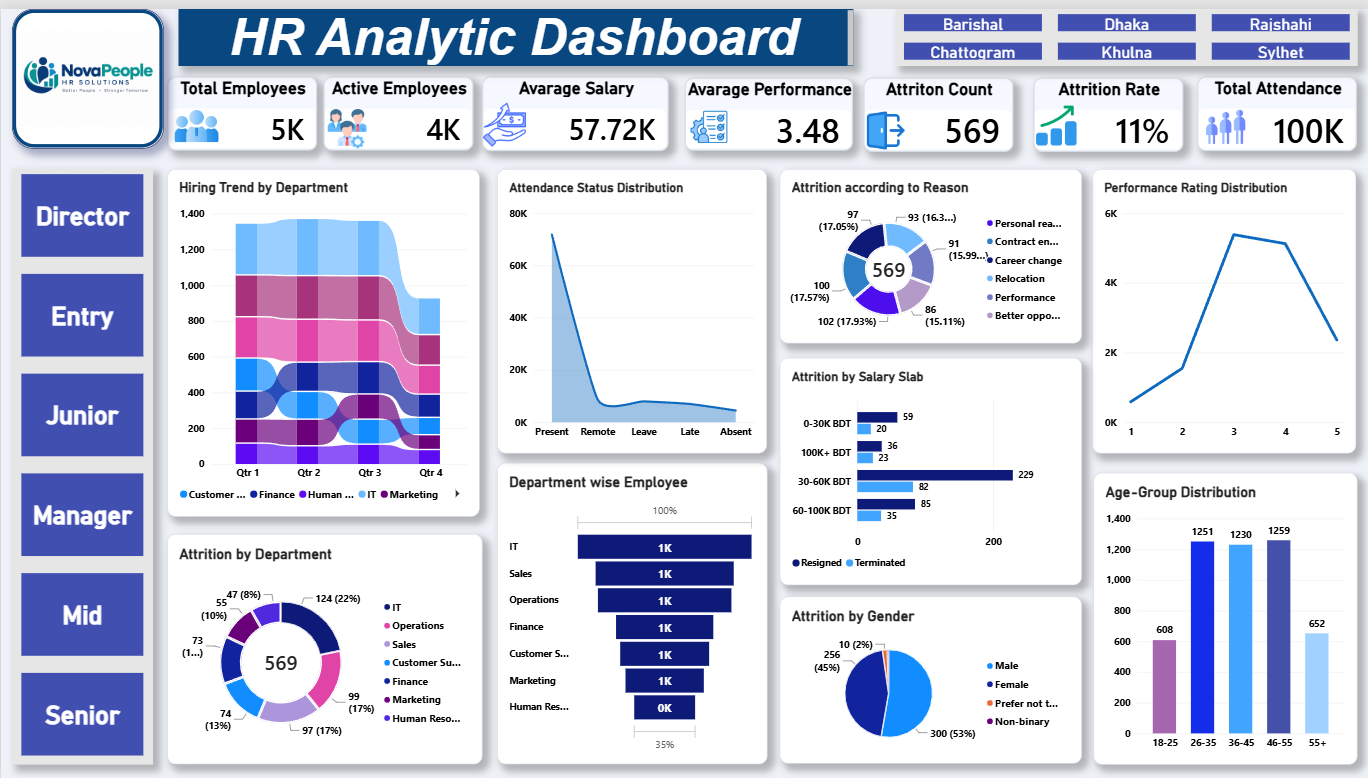

The dashboard page shown, as its layout file describes it:
{"tool":"powerbi","page":{"name":"Page 1","canvas":[1920,1080],"ordinal":0},"visuals":[{"type":"cardVisual","title":"Total Employees","fields":{"Data":["Employees.Total Employees"]},"box":[232.6,94.7,210,104],"z":0},{"type":"cardVisual","title":"Active Employees","fields":{"Data":["Employees.Active Employees"]},"box":[452.8,94.7,210,104],"z":1000},{"type":"cardVisual","title":"Avarage Salary","fields":{"Data":["Avg(Employees.MonthlySalary_BDT)"]},"box":[675.1,94.7,261.4,105],"z":2000},{"type":"cardVisual","title":"Avarage Performance","fields":{"Data":["Employees.Average Performance"]},"box":[959.7,97.1,236.2,102.2],"z":3000},{"type":"cardVisual","title":"Attriton Count","fields":{"Data":["Employees.Attrition Count"]},"box":[1210.3,96.7,210,104],"z":4000},{"type":"cardVisual","title":"Attrition Rate","fields":{"Data":["Employees.Attrition Rate"]},"box":[1449.1,96.7,210,104],"z":5000},{"type":"cardVisual","title":"Total Attendance","fields":{"Data":["Attendance_100K.Total Attendance"]},"box":[1679.6,94.7,224.4,105],"z":6000},{"type":"image","box":[227.8,131.7,92.5,65.9],"z":7000},{"type":"image","box":[676.3,128.1,62.3,69.4],"z":8000},{"type":"image","box":[1196,142.4,90.8,57],"z":9000},{"type":"image","box":[936.2,135.3,113.9,60.5],"z":10000},{"type":"image","box":[443.2,140.6,83.6,55.2],"z":11000},{"type":"image","box":[1445.2,131.7,71.2,64.1],"z":12000},{"type":"image","box":[1690.8,131.7,55.2,67.6],"z":13000},{"type":"donutChart","title":"Attrition by Department","fields":{"Category":["Employees.Department"],"Y":["Employees.Attrition Count"]},"box":[232.6,736.9,442.5,323.2],"z":14000},{"type":"funnel","title":"Department wise Employee","fields":{"Category":["Employees.Department"],"Y":["CountNonNull(Employees.EmployeeID)"]},"box":[695.9,637.2,379.1,423.6],"z":15000},{"type":"lineChart","title":"Performance Rating Distribution","fields":{"Category":["Performance.PerformanceRating"],"Y":["CountNonNull(Performance.ReviewID)"]},"box":[1531.4,224.4,370.5,399.3],"z":16000},{"type":"stackedAreaChart","title":"Attendance Status Distribution","fields":{"Category":["Attendance_100K.AttendanceStatus"],"Y":["CountNonNull(Attendance_100K.AttendanceID)"]},"box":[695.7,224.4,378.7,399.3],"z":17000},{"type":"clusteredBarChart","title":"Attrition by Salary Slab ","fields":{"Category":["Employees.Salary Slab"],"Series":["Employees.EmploymentStatus"],"Y":["Employees.Attrition Count"]},"box":[1093,489.9,424,319],"z":18000},{"type":"pieChart","title":"Attrition by Gender","fields":{"Category":["Employees.Gender"],"Y":["Employees.Attrition Count"]},"box":[1093,825.4,424,234.6],"z":19000},{"type":"columnChart","title":"Age-Group Distribution","fields":{"Category":["Employees.Age Group"],"Y":["CountNonNull(Employees.EmployeeID)"]},"box":[1533.5,650.4,370.5,409.6],"z":20000},{"type":"ribbonChart","title":"Hiring Trend by Department","fields":{"Category":["Employees.HireDate.Variation.Date Hierarchy.Quarter"],"Series":["Employees.Department"],"Y":["CountNonNull(Employees.EmployeeID)"]},"box":[232.6,224.4,438.4,487.8],"z":21000},{"type":"donutChart","title":"Attrition according to Reason","fields":{"Category":["Employees.ExitReason"],"Y":["Employees.Attrition Count"]},"box":[1093,224.4,424,244.9],"z":22000},{"type":"image","box":[15.1,0,212.7,196],"z":23000},{"type":"textbox","box":[249.1,0,946.8,80.3],"z":24000},{"type":"advancedSlicerVisual","title":"Job Level","fields":{"Values":["Employees.JobLevel"]},"box":[15.1,224.4,197.6,835.8],"z":24001},{"type":"advancedSlicerVisual","fields":{"Values":["Employees.Location"]},"box":[1255.6,0,648.4,80.3],"z":24002}]}

Visuals, with their boxes in screenshot pixels (x1, y1, x2, y2), scaled from the page's 1920x1080 canvas onto the 1368x778 screenshot:
"Total Employees" cardVisual: 166, 68, 315, 143
"Active Employees" cardVisual: 323, 68, 472, 143
"Avarage Salary" cardVisual: 481, 68, 667, 144
"Avarage Performance" cardVisual: 684, 70, 852, 144
"Attriton Count" cardVisual: 862, 70, 1012, 145
"Attrition Rate" cardVisual: 1032, 70, 1182, 145
"Total Attendance" cardVisual: 1197, 68, 1357, 144
image: 162, 95, 228, 142
image: 482, 92, 526, 142
image: 852, 103, 917, 144
image: 667, 97, 748, 141
image: 316, 101, 375, 141
image: 1030, 95, 1080, 141
image: 1205, 95, 1244, 144
"Attrition by Department" donutChart: 166, 531, 481, 764
"Department wise Employee" funnel: 496, 459, 766, 764
"Performance Rating Distribution" lineChart: 1091, 162, 1355, 449
"Attendance Status Distribution" stackedAreaChart: 496, 162, 766, 449
"Attrition by Salary Slab " clusteredBarChart: 779, 353, 1081, 583
"Attrition by Gender" pieChart: 779, 595, 1081, 764
"Age-Group Distribution" columnChart: 1093, 469, 1357, 764
"Hiring Trend by Department" ribbonChart: 166, 162, 478, 513
"Attrition according to Reason" donutChart: 779, 162, 1081, 338
image: 11, 0, 162, 141
textbox: 177, 0, 852, 58
"Job Level" advancedSlicerVisual: 11, 162, 152, 764
advancedSlicerVisual - Employees.Location: 895, 0, 1357, 58
